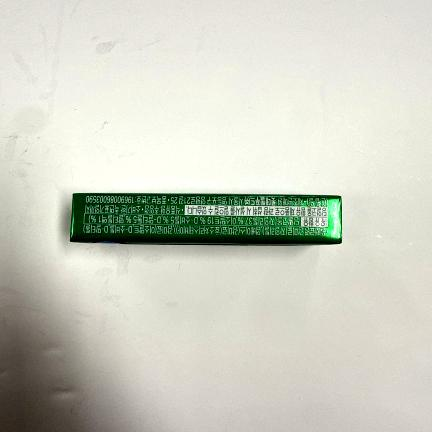gum_green: (71, 193, 344, 242)
